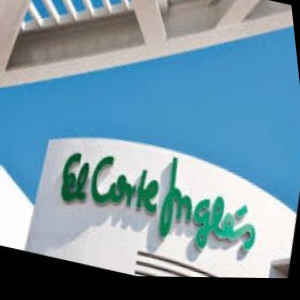corte_ingles: (216, 104, 300, 276)
